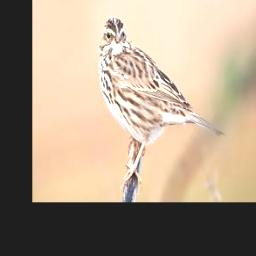Sparrow: (99, 17, 225, 193)
